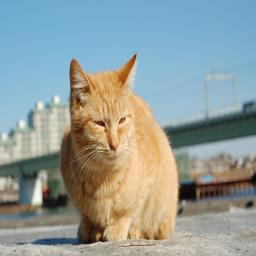catnose: (108, 140, 119, 154)
